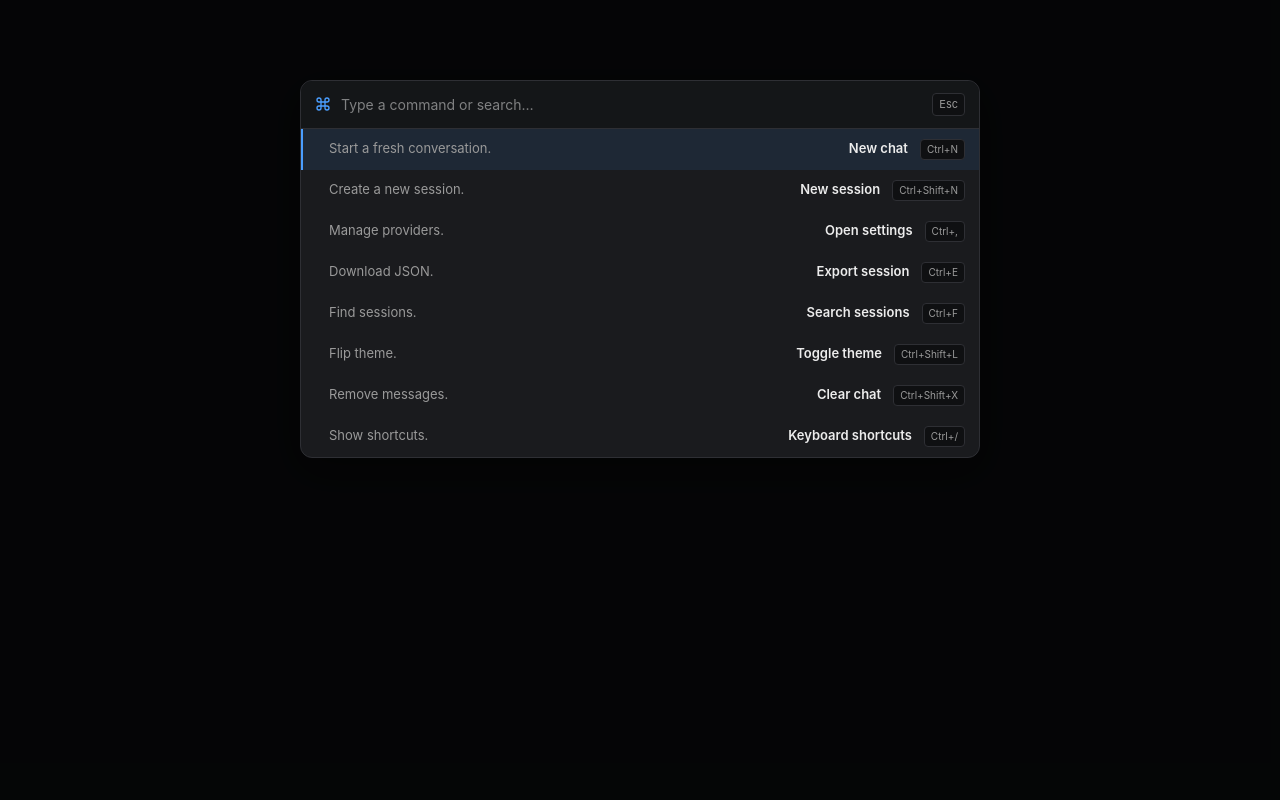
CommandPalette › filters by description substring
The width and height of the screenshot is (1280, 800).
Type "download" into the field named "command search".
click(632, 104); type("download")  # box 341,94 -> 922,115
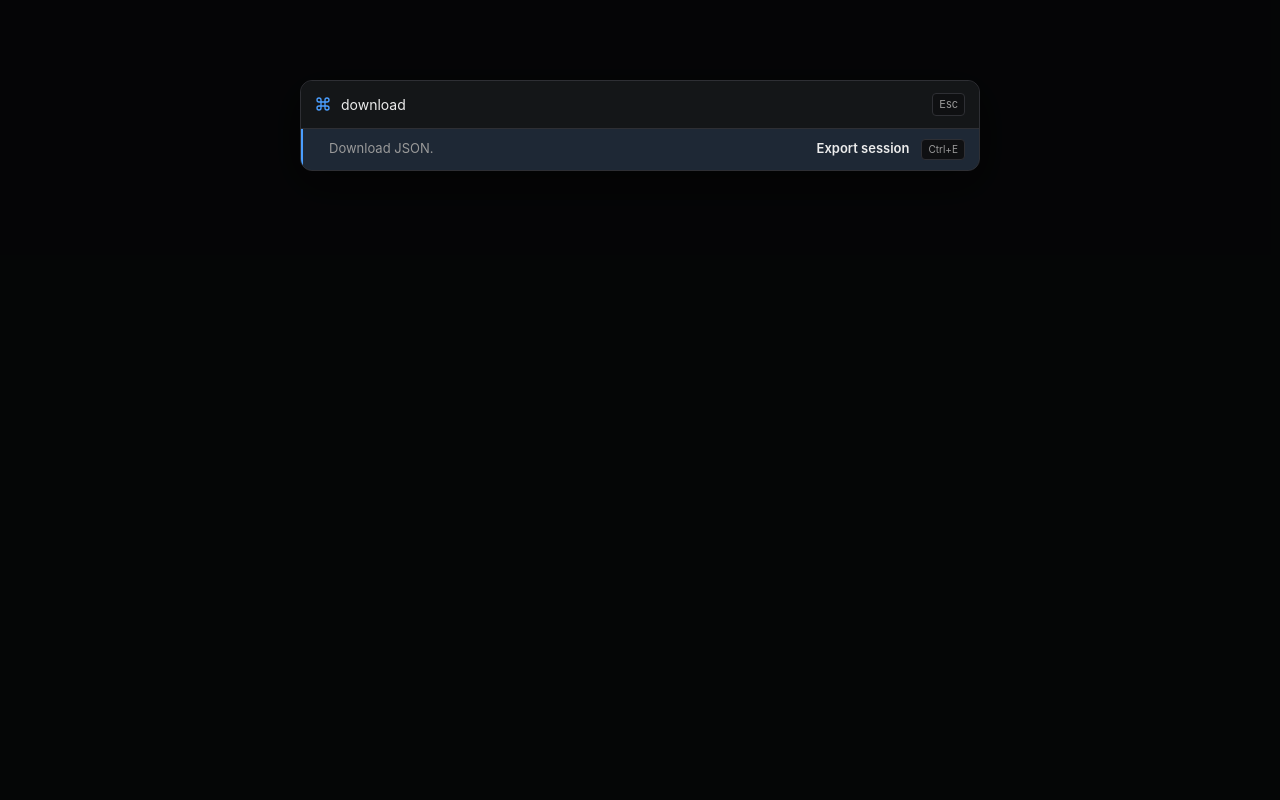
Check: the text "Export session" is shown, box 816,139 -> 909,159
Check: the option "Open settings" is gone
